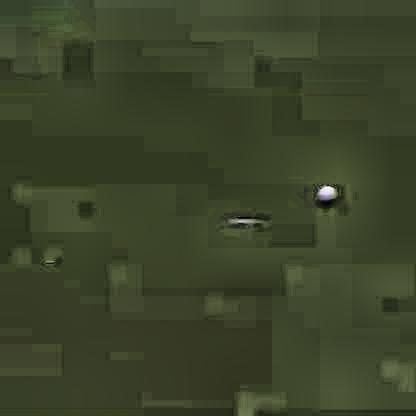golfball: (314, 182, 334, 200)
